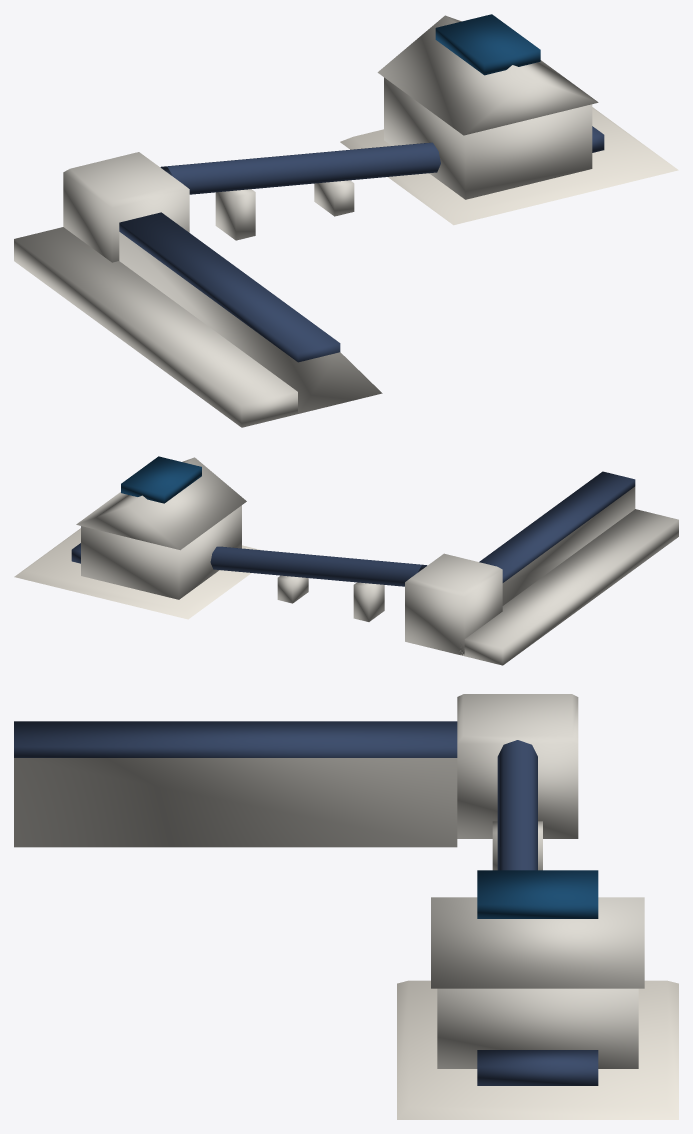
File: pch.glb
The picture shows the model from 3 angles, top to bottom: view 1: azimuth 30°, elevation 25°; view 2: azimuth 150°, elevation 25°; view 3: azimuth 270°, elevation 25°; orthographic projection. The views are drawn at different scales.
Visible parts, largest first — view 1: pch; view 2: pch; view 3: pch.
Part boxes in pixels (<box>): pch: <box>14,14,678,427</box>; pch: <box>14,456,678,665</box>; pch: <box>14,694,678,1119</box>.
Size of the model in its own units: 84 by 16.6 by 66.
